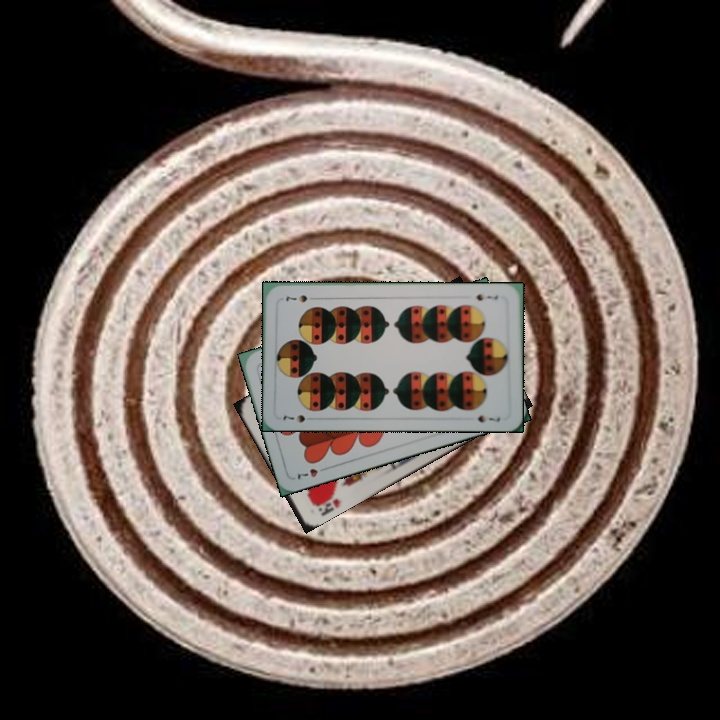H7: (293, 463, 331, 482)
HK: (309, 490, 343, 519)
S7: (279, 411, 318, 425), (473, 290, 500, 303)
